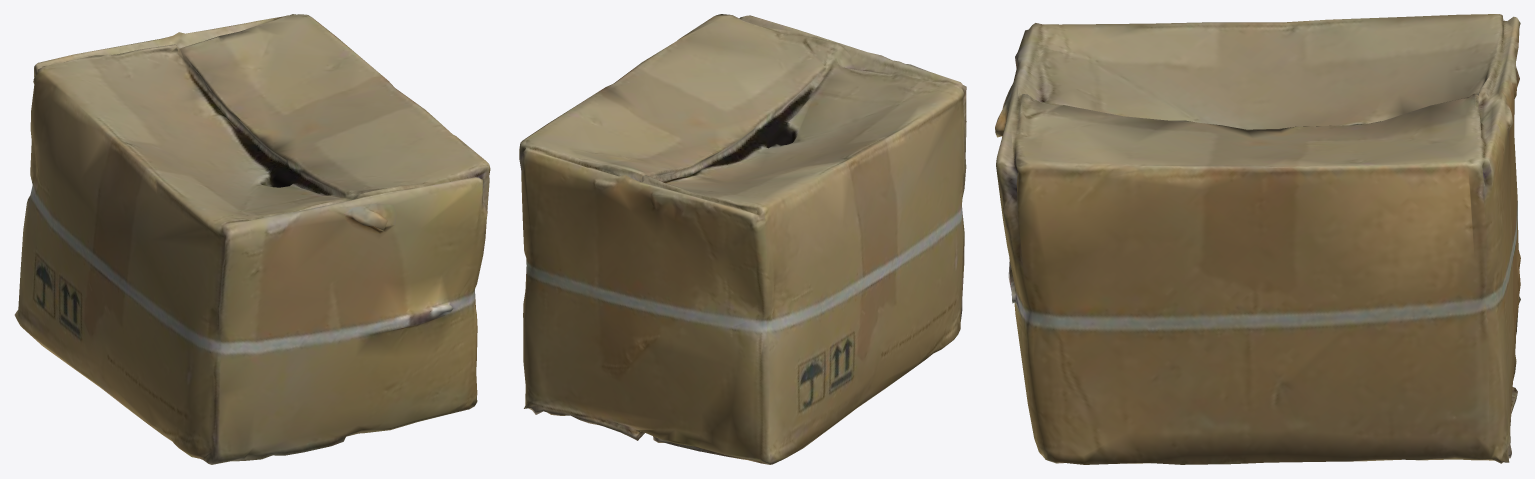
Rendered from obj-caja.c0c9f8.glb.
3 views of the same model, side by side, from view 1: azimuth 30°, elevation 25°; view 2: azimuth 150°, elevation 25°; view 3: azimuth 270°, elevation 25° (orthographic). The views are drawn at different scales.
Parts seen in each view (by area): view 1: cardboard_box_01; view 2: cardboard_box_01; view 3: cardboard_box_01.
Boxes of the visible parts, x1,y1,x2,y2 form: cardboard_box_01: (14, 14, 490, 464); cardboard_box_01: (519, 14, 966, 464); cardboard_box_01: (995, 14, 1520, 464).
Bounding box in the file's own units: 0.3868 × 0.3418 × 0.5159.
Materials: 1 (1 with a texture image).
